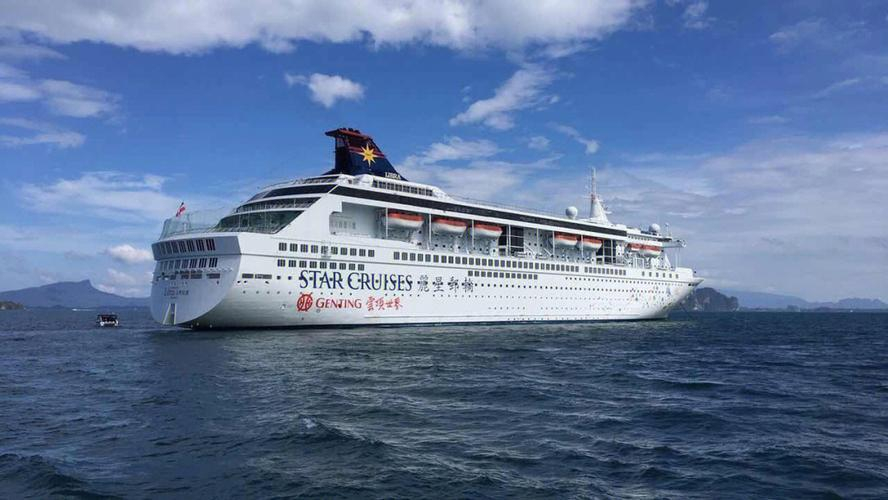Ship: (148, 149, 709, 322)
